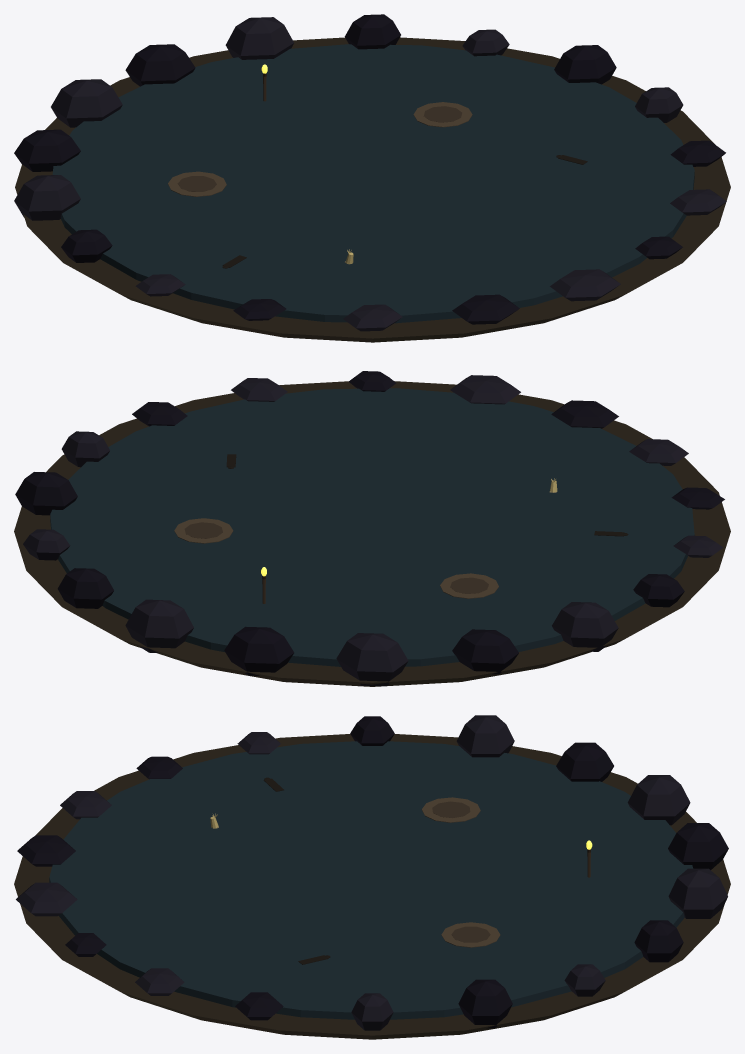
Rendered from s3_arena_b31.glb.
The picture shows the model from 3 angles, top to bottom: view 1: azimuth 30°, elevation 25°; view 2: azimuth 150°, elevation 25°; view 3: azimuth 270°, elevation 25°; orthographic projection.
Visible parts, largest first — view 1: s3_arena_b31; view 2: s3_arena_b31; view 3: s3_arena_b31.
Part boxes in pixels (x1,y1,x2,y2): s3_arena_b31: [14, 14, 730, 342]; s3_arena_b31: [14, 371, 730, 686]; s3_arena_b31: [14, 715, 730, 1039].
Bounding box in the file's own units: 36.4 × 3.25 × 36.4.
